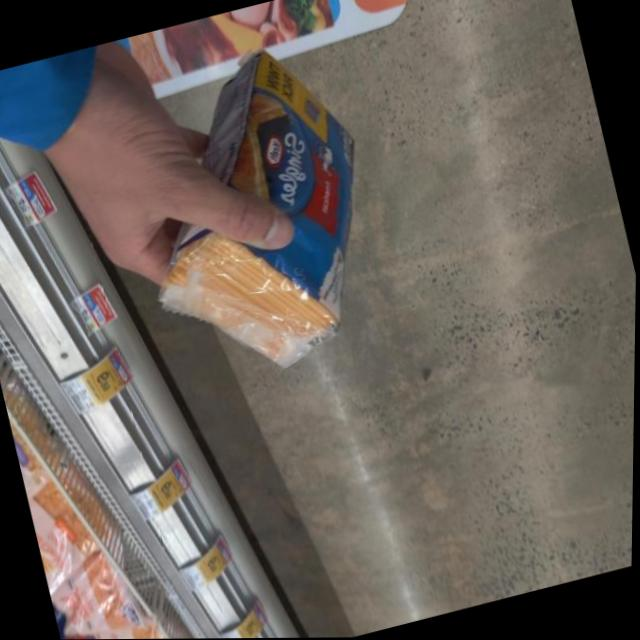Cheese: (117, 39, 415, 391)
